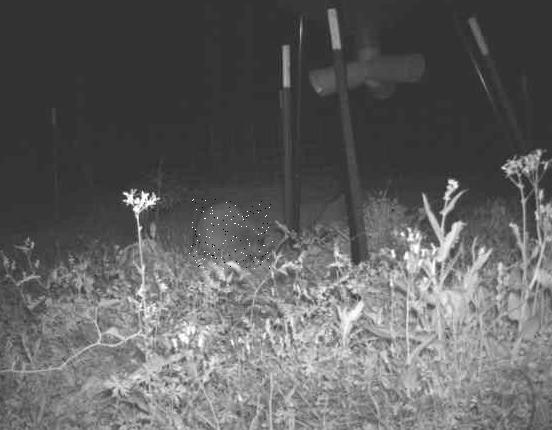Raccoon: (190, 200, 274, 270)
